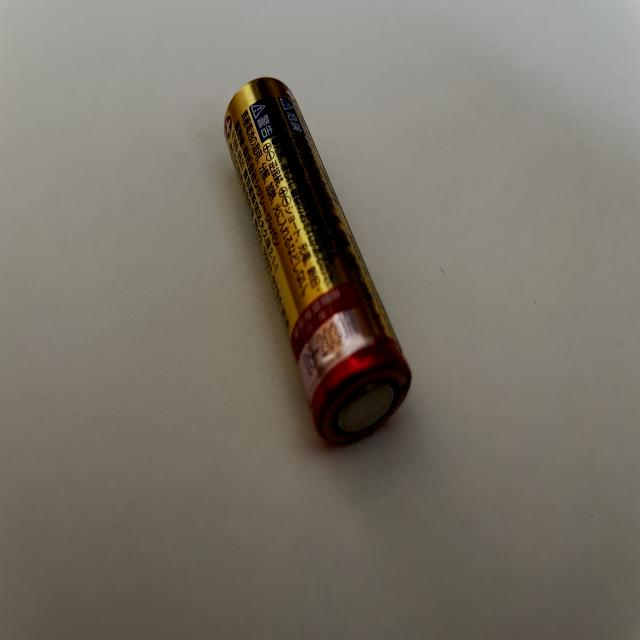AA: (225, 67, 413, 453)
